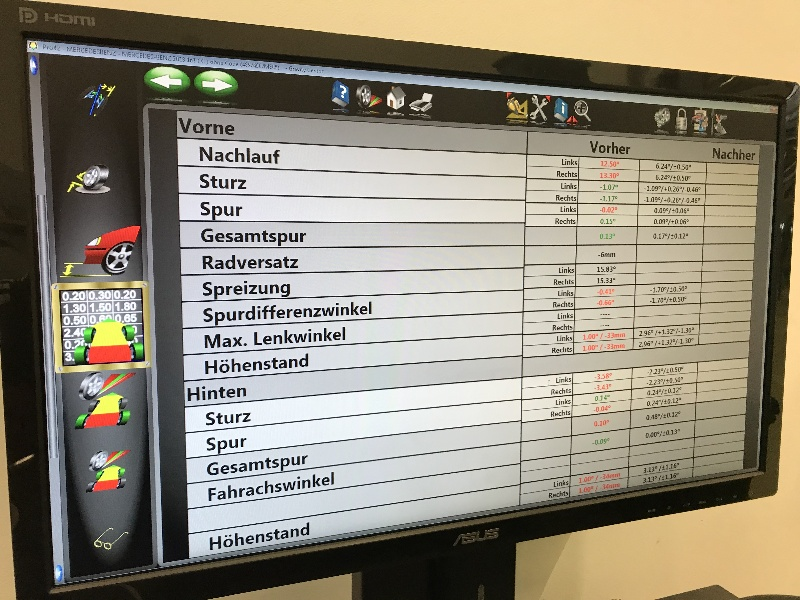wam_one: (169, 109, 635, 575)
